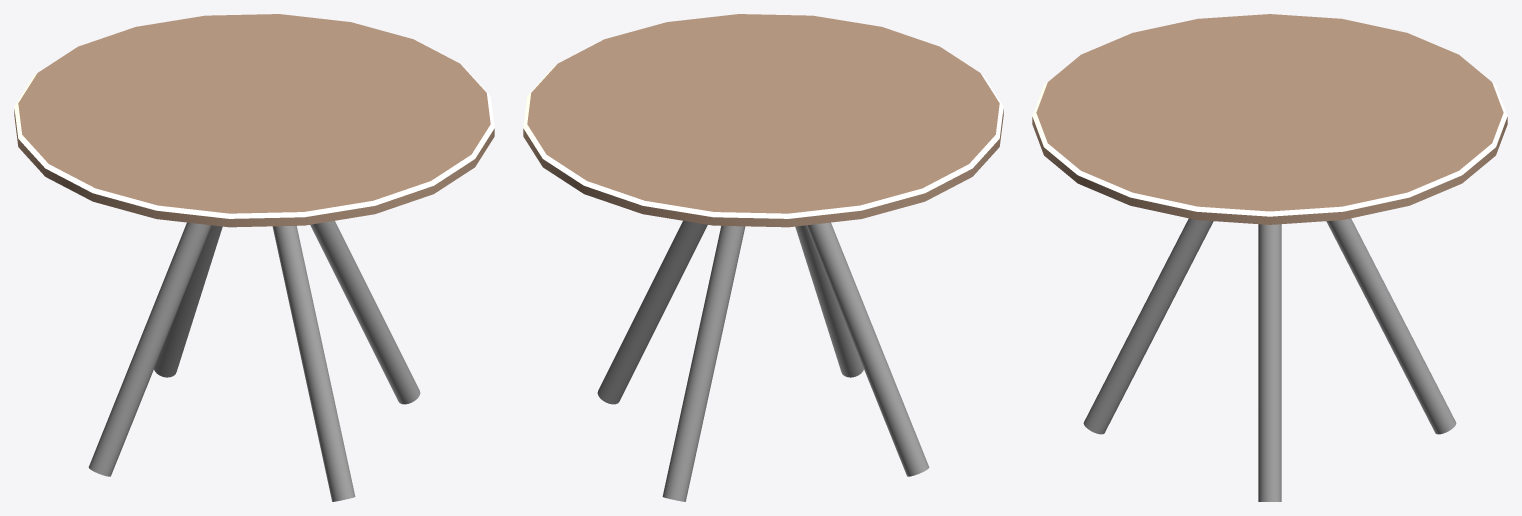
The model's file is Table.fbx.
The picture shows the model from 3 angles, left to right: view 1: azimuth 30°, elevation 25°; view 2: azimuth 150°, elevation 25°; view 3: azimuth 270°, elevation 25°; orthographic projection.
Visible parts, largest first — view 1: Table_Top, Table_Leg1, Table_Leg2, Table_Leg3, Table_Leg4; view 2: Table_Top, Table_Leg4, Table_Leg2, Table_Leg3, Table_Leg1; view 3: Table_Top, Table_Leg3, Table_Leg1, Table_Leg4.
Boxes of the visible parts, <box> form: Table_Top: <box>14,14,494,227</box>; Table_Leg1: <box>272,226,355,501</box>; Table_Leg2: <box>88,222,211,476</box>; Table_Leg3: <box>310,221,420,404</box>; Table_Leg4: <box>154,225,222,377</box>; Table_Top: <box>523,14,1003,227</box>; Table_Leg4: <box>662,226,745,501</box>; Table_Leg2: <box>806,222,929,476</box>; Table_Leg3: <box>597,221,707,404</box>; Table_Leg1: <box>795,225,863,377</box>; Table_Top: <box>1032,14,1507,224</box>; Table_Leg3: <box>1258,224,1281,501</box>; Table_Leg1: <box>1083,218,1213,434</box>; Table_Leg4: <box>1326,218,1456,434</box>.
Bounding box in the file's own units: 1.2 × 0.8939 × 1.2.
